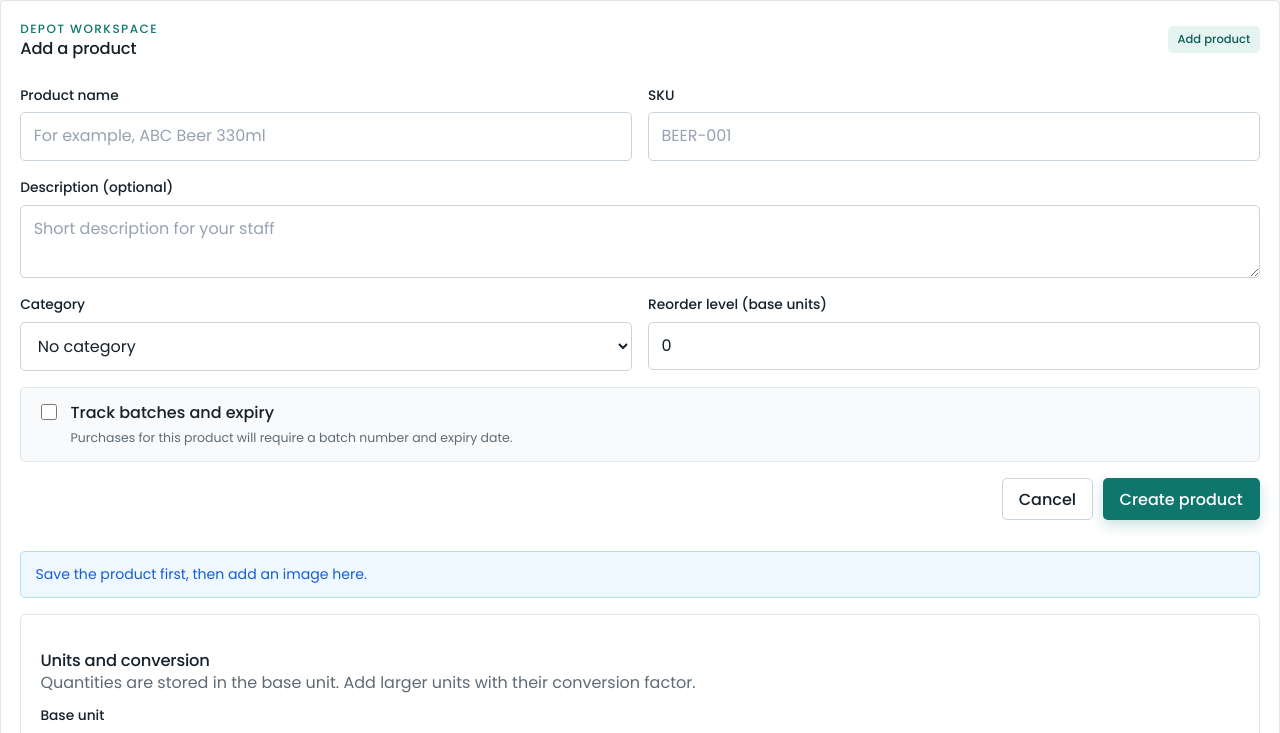
Test case: ProductForm › validates the product fields and the base unit before creating
The image size is (1280, 733).
Click the button "Create product". click: (1181, 499)
box: [1103, 478, 1260, 520]
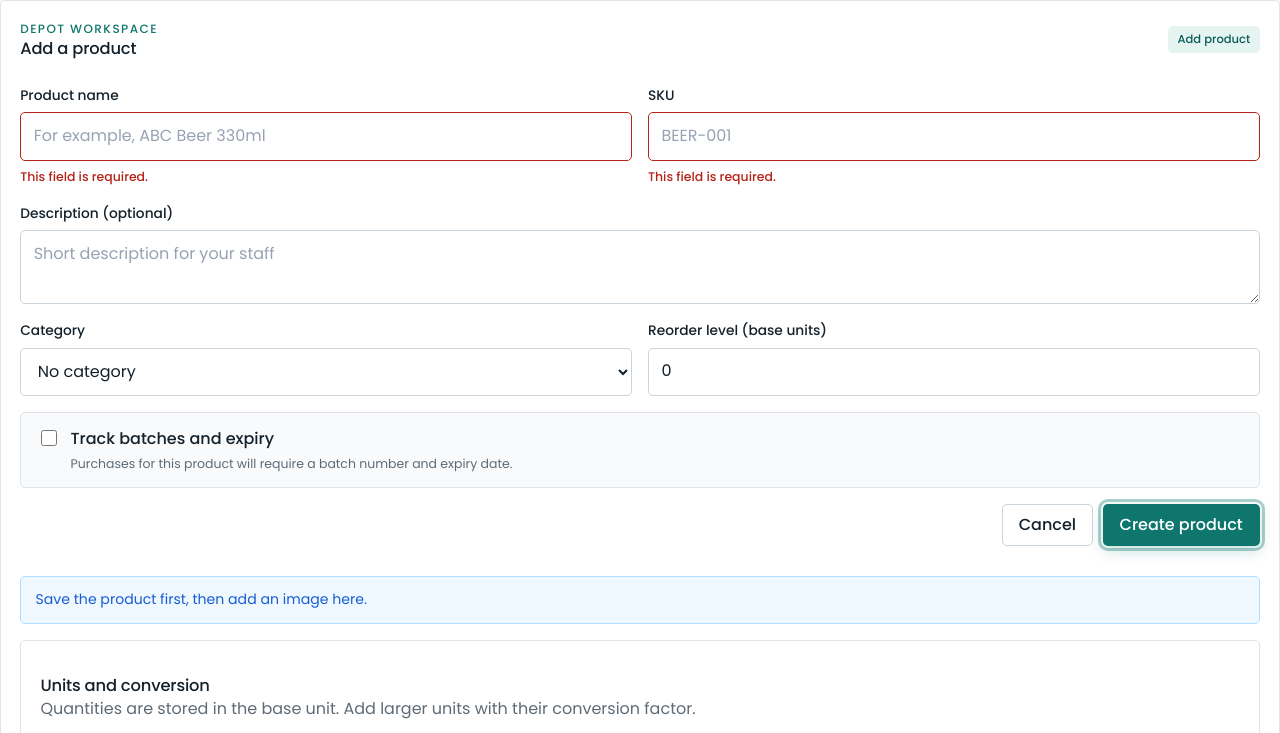
Check: the text "This field is required." is shown 3 times
